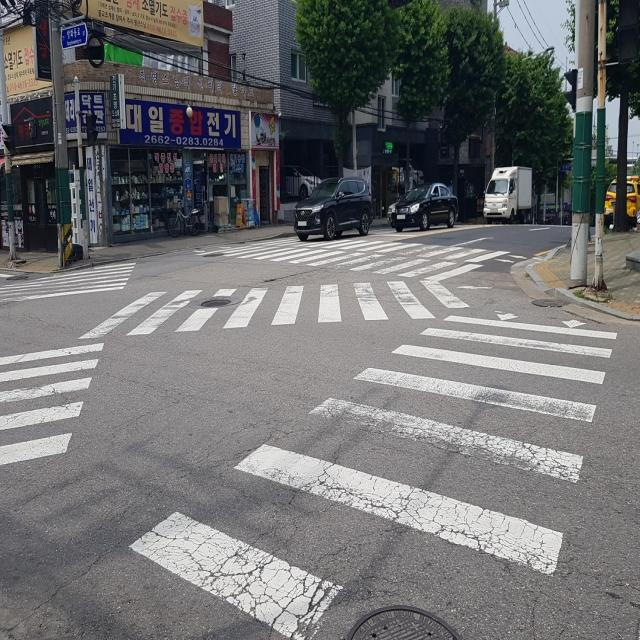횡단보도: (115, 238, 583, 640), (0, 262, 136, 466)
